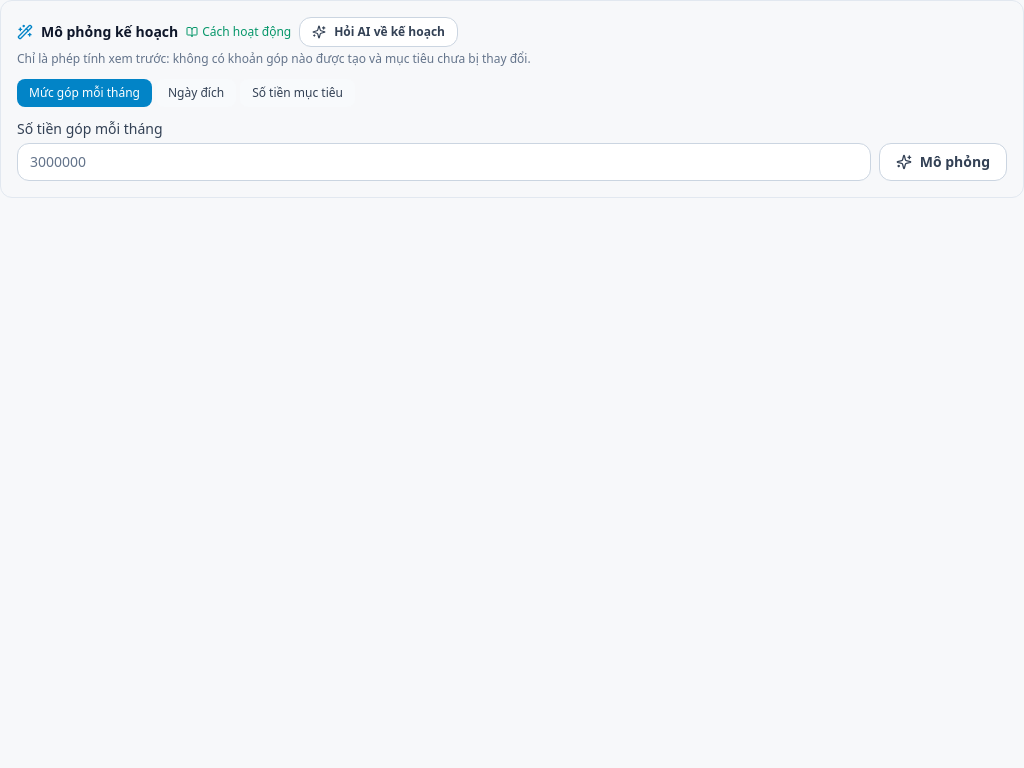
Scenario: GoalPlanSimulator — adjustment › keeps the confirm button disabled when the preview is not applicable
Step 1. Click the tab "Số tiền mục tiêu" → {"x": 298, "y": 93}, box 240,79 -> 355,107
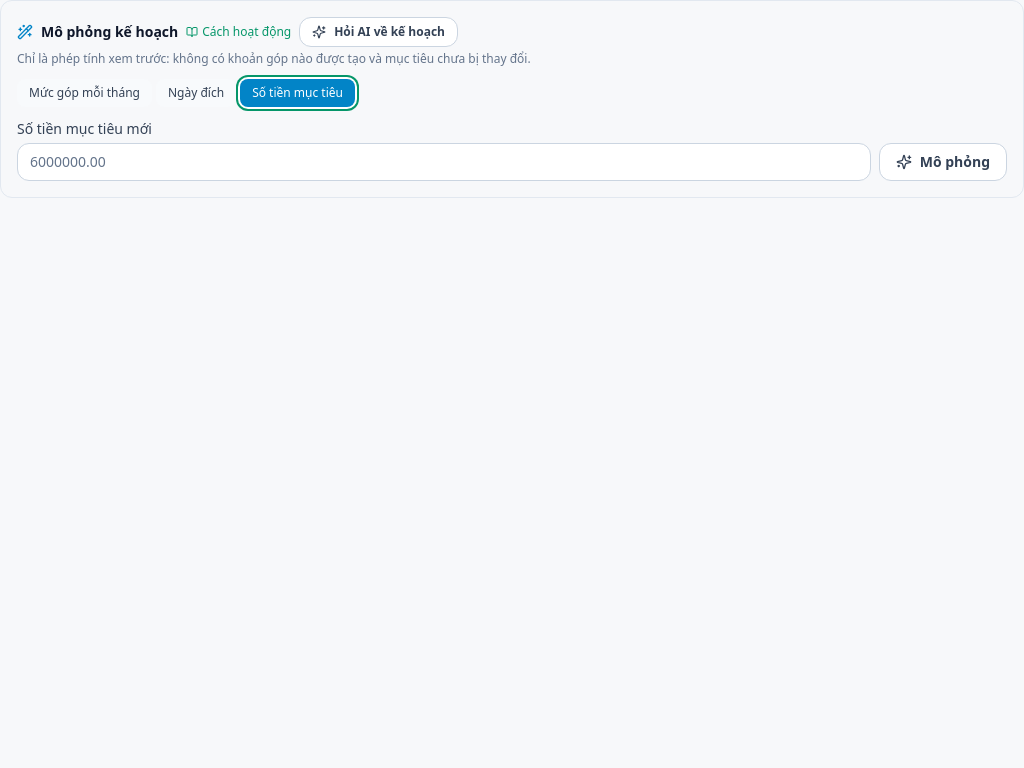
Step 2. Type "7000000" into the field labelled "Số tiền mục tiêu mới" → {"x": 444, "y": 162}, box 17,143 -> 871,181
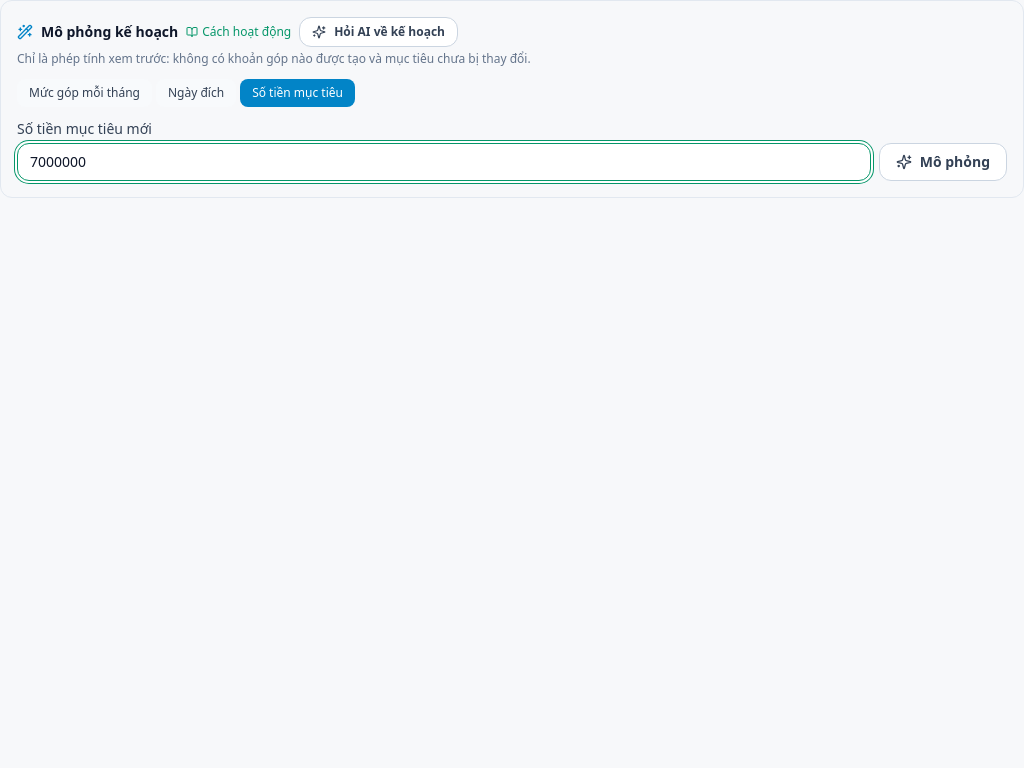
Step 3. Click the button "Mô phỏng" → {"x": 943, "y": 162}, box 879,143 -> 1007,181
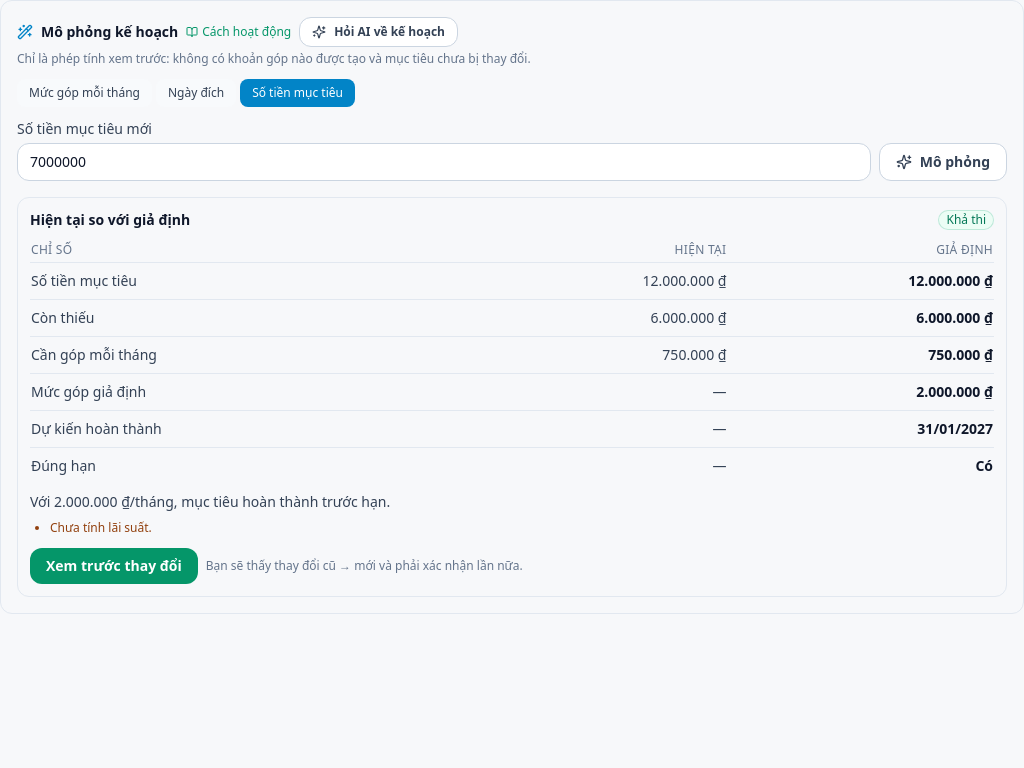
Step 4. Click the button "Xem trước thay đổi" → {"x": 114, "y": 566}, box 30,548 -> 198,584
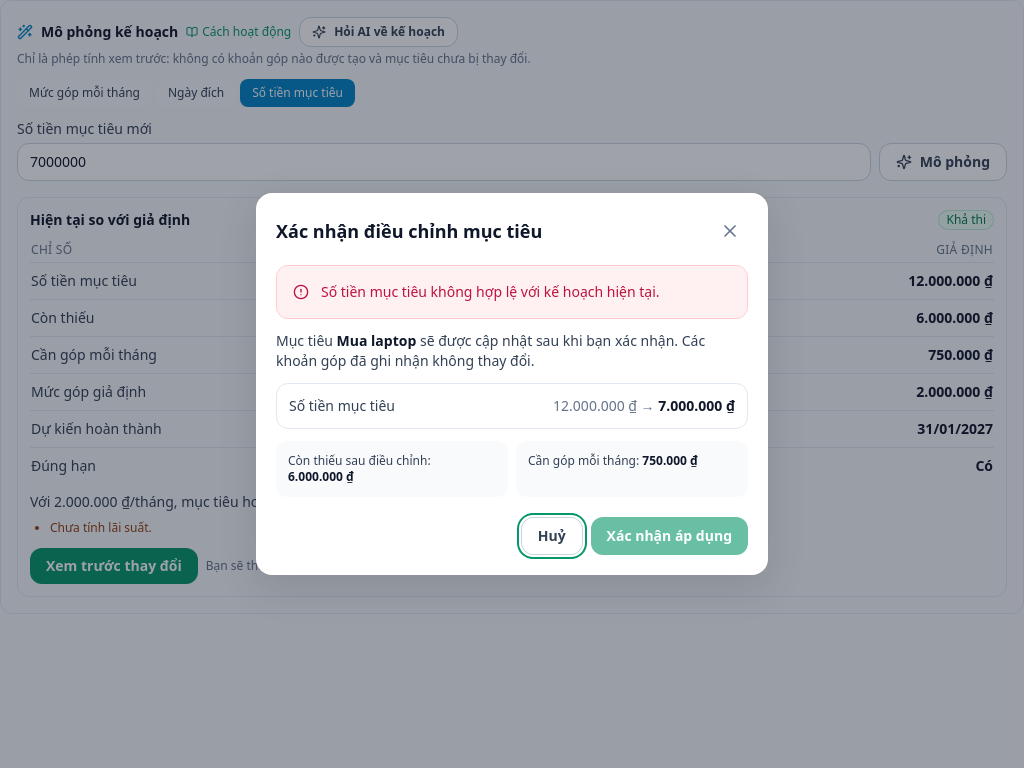
Result: the text "Số tiền mục tiêu không hợp lệ với kế hoạch hiện tại." is shown at 321,282 -> 660,301
Result: the button "Xác nhận áp dụng" is disabled at 591,517 -> 748,555
